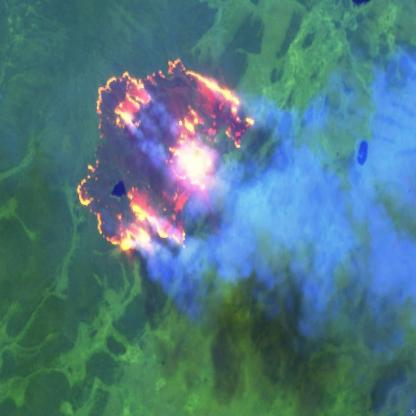fire: (74, 48, 259, 263)
